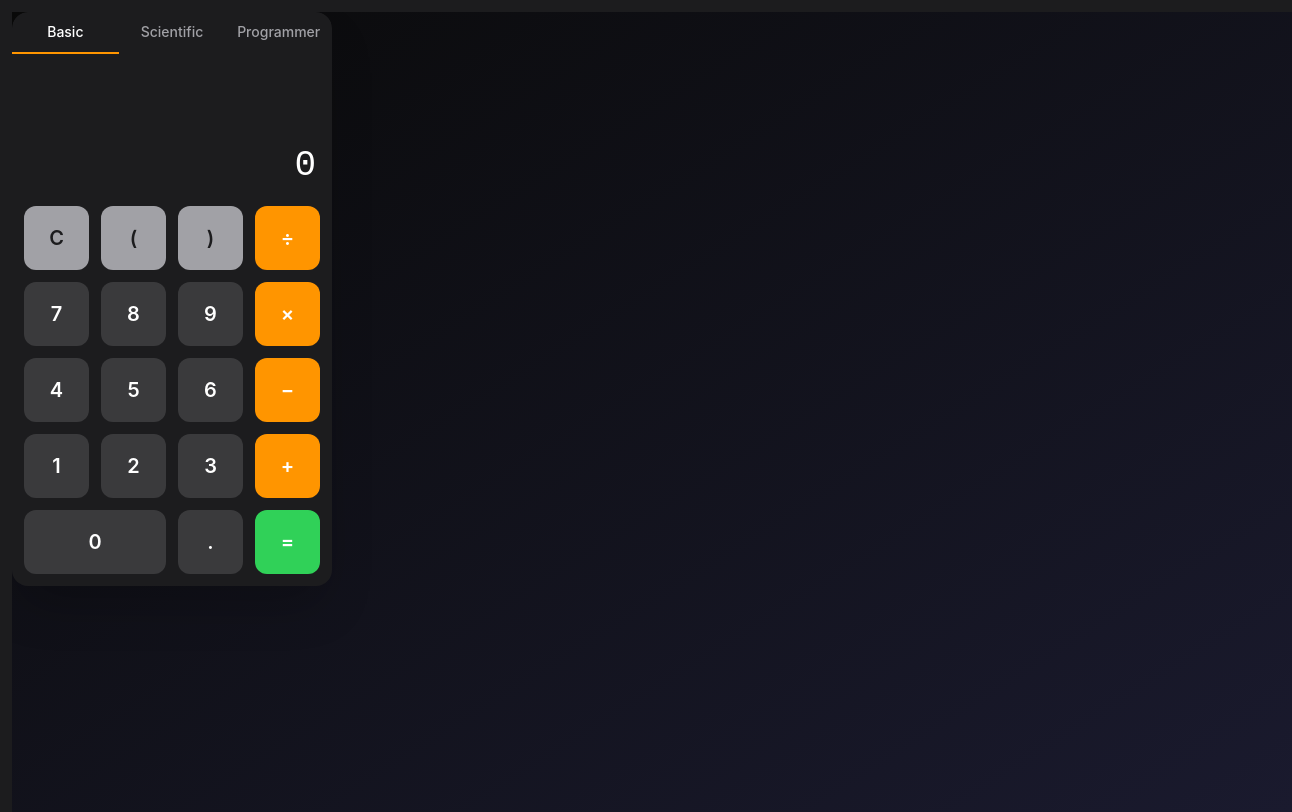
Test: Calculator › switching to Scientific shows scientific grid
Click the button "Scientific": (172, 33) left=119, top=12, right=225, bottom=54
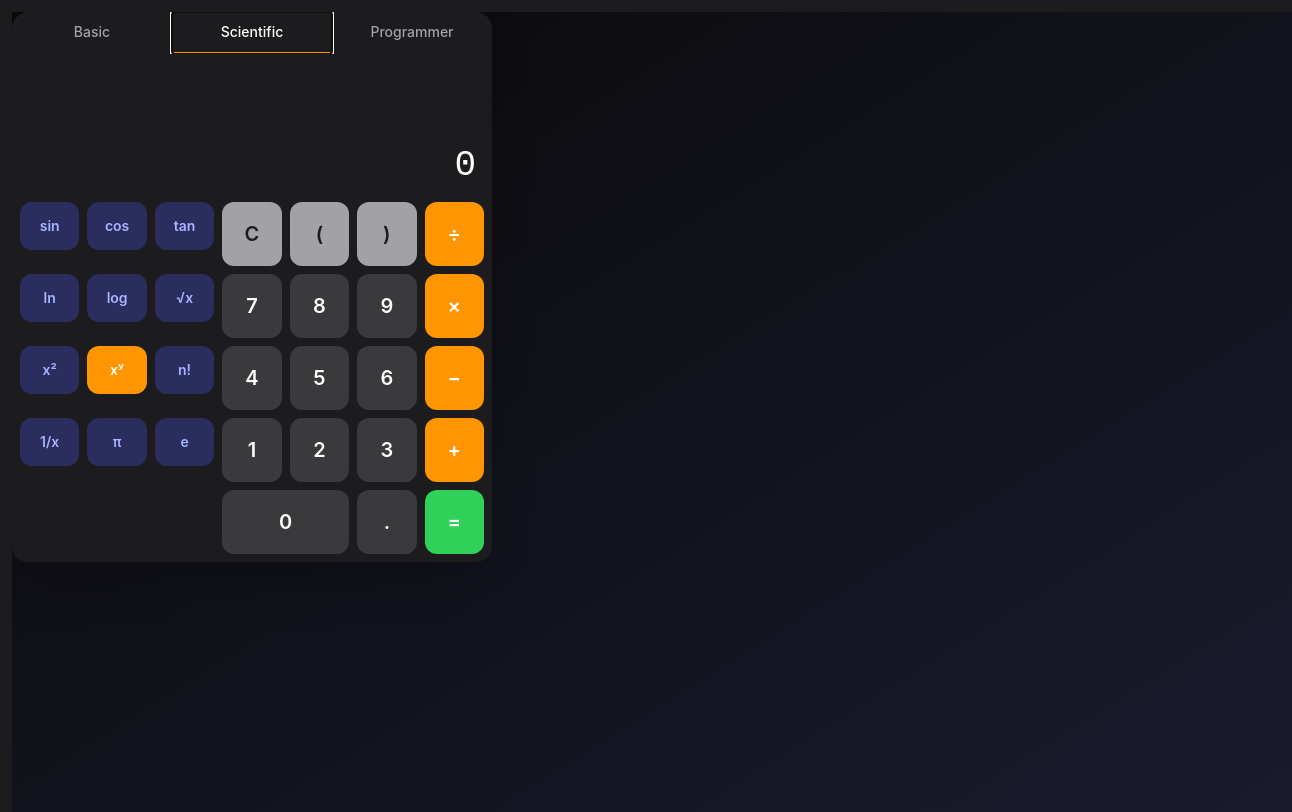
Result: the button "sin" is shown at left=20, top=202, right=79, bottom=250
Result: the button "cos" is shown at left=87, top=202, right=147, bottom=250
Result: the button "tan" is shown at left=155, top=202, right=214, bottom=250
